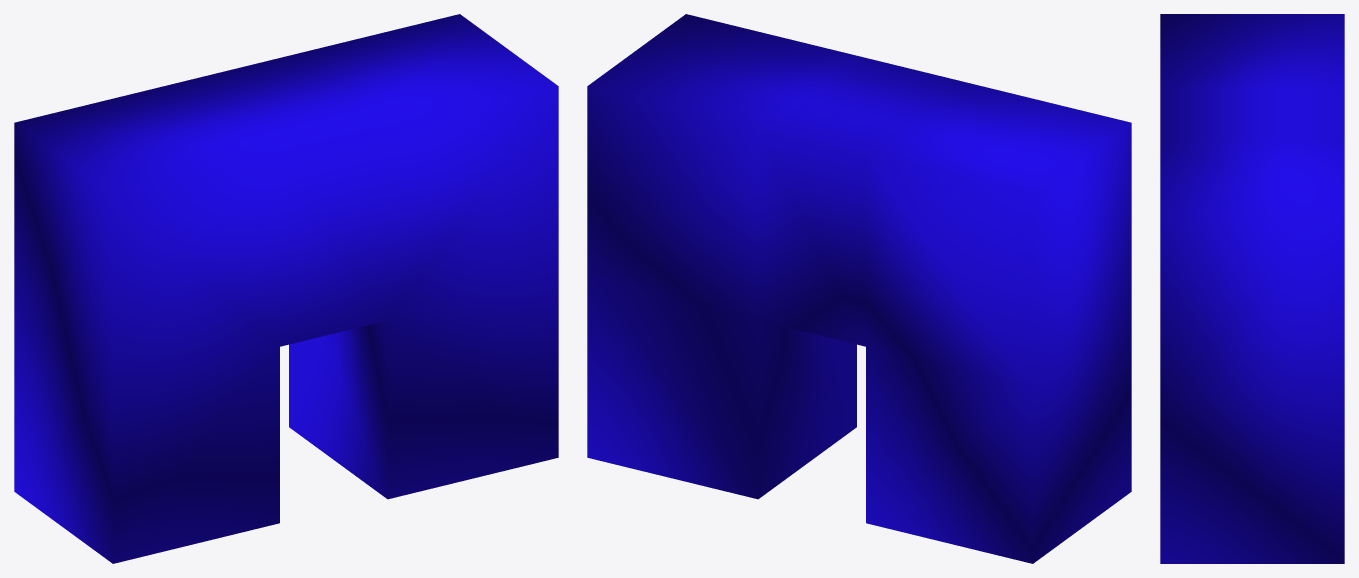
Rendered from gate.glb.
3 views of the same model, side by side, from view 1: azimuth 30°, elevation 25°; view 2: azimuth 150°, elevation 25°; view 3: azimuth 270°, elevation 25° (orthographic). The views are drawn at different scales.
Visible parts, largest first — view 1: Cube; view 2: Cube; view 3: Cube.
Part boxes in pixels (x1=…): Cube: x1=14, y1=14, x2=558, y2=563; Cube: x1=587, y1=14, x2=1131, y2=563; Cube: x1=1160, y1=14, x2=1344, y2=563.
Size of the model in its own units: 5.21 by 4.15 by 2.
